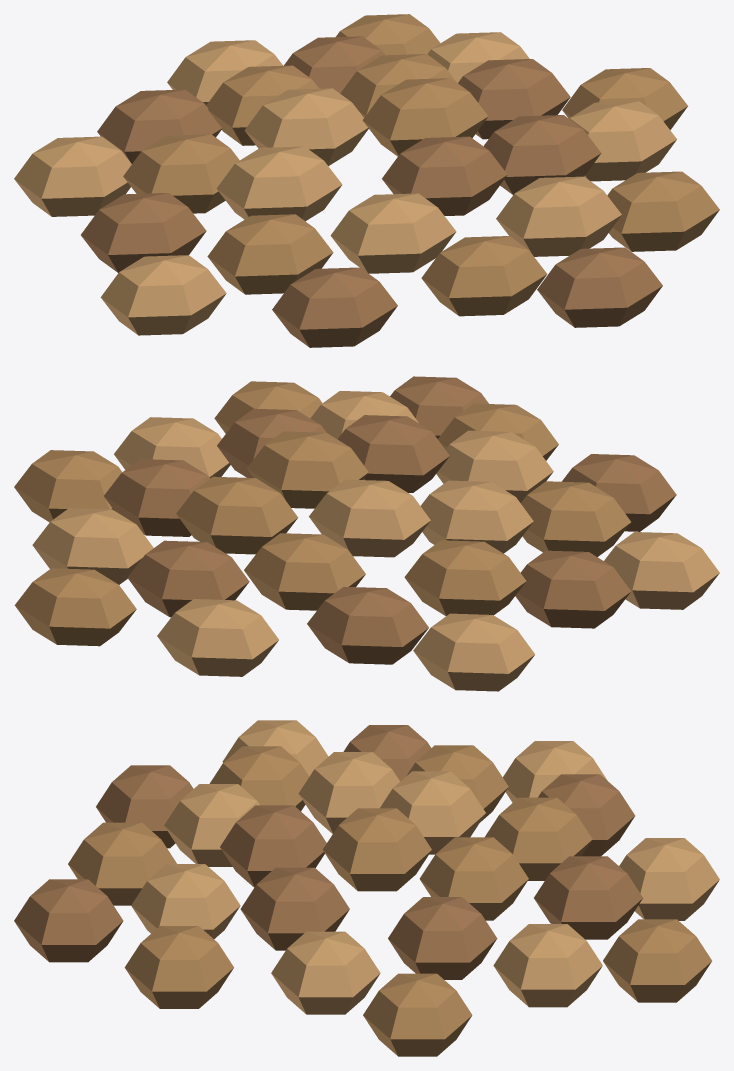
Rendered from cat_food.glb.
The picture shows the model from 3 angles, top to bottom: view 1: azimuth 30°, elevation 25°; view 2: azimuth 150°, elevation 25°; view 3: azimuth 270°, elevation 25°; orthographic projection. The views are drawn at different scales.
Visible parts, largest first — view 1: CatFood; view 2: CatFood; view 3: CatFood.
Boxes of the visible parts, x1,y1,x2,y2 form: CatFood: (14, 14, 719, 347); CatFood: (14, 376, 719, 691); CatFood: (14, 720, 719, 1056).
Bounding box in the file's own units: 0.1859 × 0.0377 × 0.1804.
